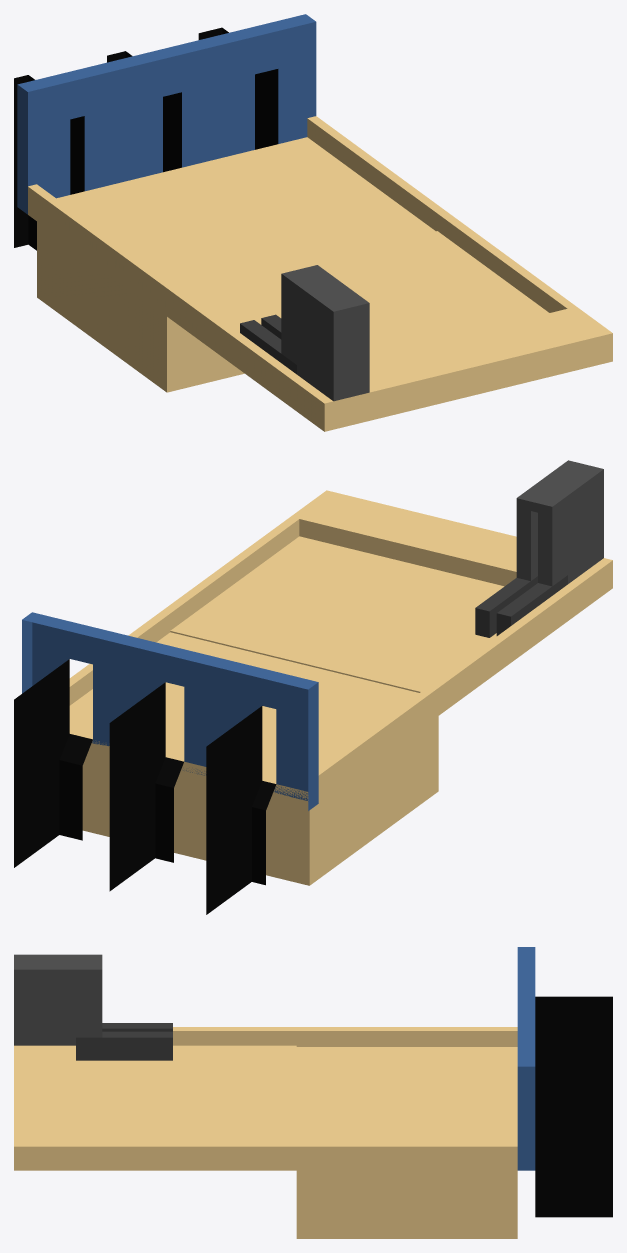
File: coin-roller.glb
3 renders of one model, top to bottom at view 1: azimuth 30°, elevation 25°; view 2: azimuth 150°, elevation 25°; view 3: azimuth 270°, elevation 25°, orthographic. The views are drawn at different scales.
Parts seen in each view (by area): view 1: base, trap, slot-1, slot-3, slot-2, launcher; view 2: base, slot-2, slot-3, slot-1, trap, launcher; view 3: base, trap, slot-3, slot-1, slot-2, launcher.
Part boxes in pixels (x1,y1,x2,y2): base: [17, 14, 612, 431]; trap: [56, 137, 435, 292]; slot-1: [14, 62, 117, 250]; slot-3: [198, 16, 307, 156]; slot-2: [107, 39, 212, 179]; launcher: [240, 314, 296, 374]; base: [22, 460, 612, 885]; slot-2: [109, 637, 215, 891]; slot-3: [14, 614, 121, 867]; slot-1: [206, 660, 308, 914]; trap: [69, 632, 418, 800]; launcher: [475, 575, 567, 637]; base: [14, 947, 535, 1238]; trap: [296, 1047, 517, 1142]; slot-3: [517, 1029, 612, 1217]; slot-1: [517, 950, 612, 1034]; slot-2: [517, 990, 612, 1073]; launcher: [76, 1023, 172, 1060].
Bounding box in the file's own units: 0.32 × 0.22 × 0.678.
